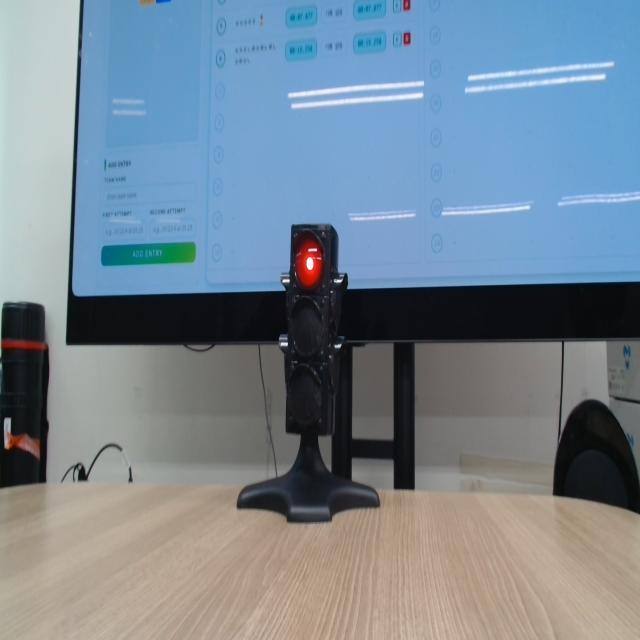red_light: (295, 235, 324, 289)
